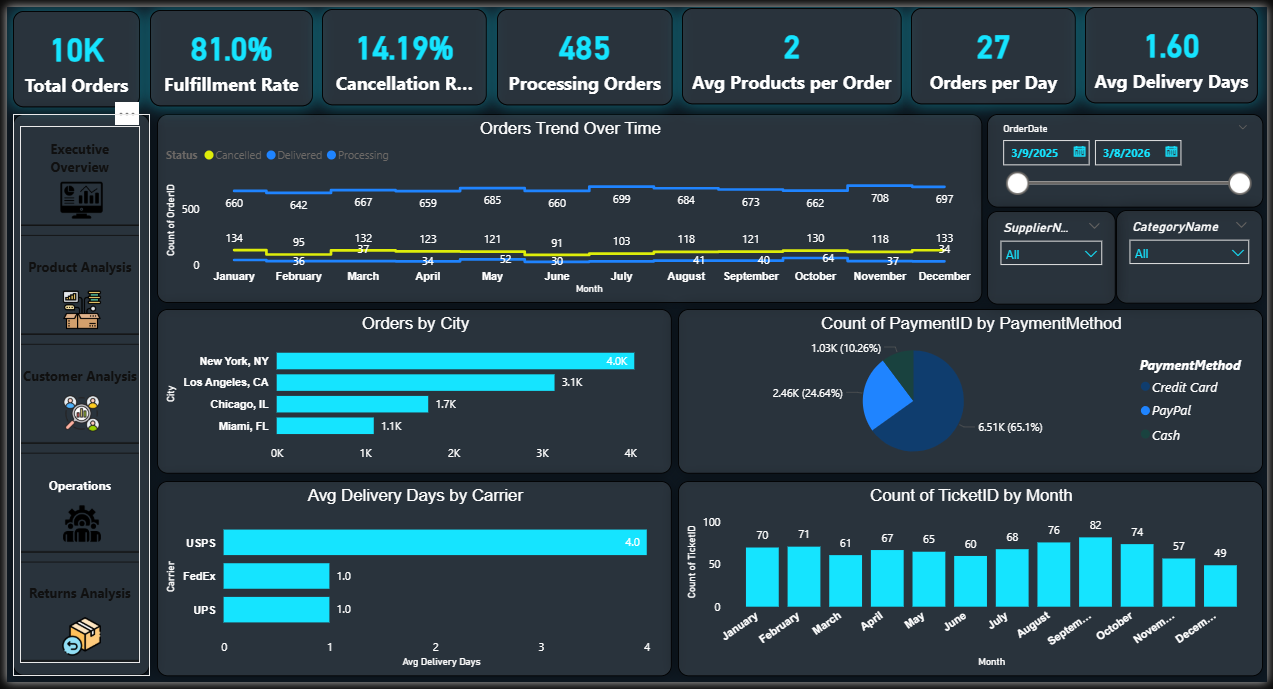

The dashboard page shown, as its layout file describes it:
{"tool":"powerbi","page":{"name":"Operations","canvas":[1400,750],"ordinal":3},"visuals":[{"type":"lineChart","title":"Orders Trend Over Time","fields":{"Category":["Orders.OrderDate.Variation.Date Hierarchy.Month"],"Series":["Orders.Status"],"Y":["CountNonNull(Orders.OrderID)"]},"box":[166.7,118.9,916.7,210],"z":0},{"type":"clusteredBarChart","title":"Orders by City","fields":{"Category":["Customers.City"],"Y":["Categories.Total Orders"]},"box":[166.7,335.6,572.2,183.3],"z":1000},{"type":"clusteredBarChart","fields":{"Category":["Shipping.Carrier"],"Y":["SupportTickets.Avg Delivery Days"]},"box":[166.7,526.7,572.2,216.7],"z":2000},{"type":"pieChart","fields":{"Category":["Payments.PaymentMethod"],"Y":["CountNonNull(Payments.PaymentID)"]},"box":[745.6,335.6,650,183.3],"z":3000},{"type":"clusteredColumnChart","fields":{"Category":["SupportTickets.CreatedAt.Variation.Date Hierarchy.Month"],"Y":["CountNonNull(SupportTickets.TicketID)"]},"box":[745.6,526.7,650,216.7],"z":4000},{"type":"card","fields":{"Values":["Categories.Total Orders"]},"box":[7,4,141,107],"z":5000},{"type":"card","fields":{"Values":["SupportTickets.Fulfillment Rate"]},"box":[158.7,3.3,181,107],"z":6000},{"type":"card","fields":{"Values":["SupportTickets.Cancellation Rate"]},"box":[350.3,2.7,183,107],"z":7000},{"type":"card","fields":{"Values":["Categories.Processing Orders"]},"box":[544,2,195,107],"z":8000},{"type":"card","fields":{"Values":["Categories.Avg Products per Order"]},"box":[749.7,1.3,244,107],"z":9000},{"type":"card","fields":{"Values":["Categories.Orders per Day"]},"box":[1004.3,0.7,183,107],"z":10000},{"type":"card","fields":{"Values":["SupportTickets.Avg Delivery Days"]},"box":[1198,0,192,107],"z":11000},{"type":"group","id":"g1","title":"Group 1","box":[7,119,152,624],"z":12000},{"type":"image","box":[23,191,119,47],"z":13000},{"type":"shape","box":[7,119,152,624],"z":14000,"group":"g1"},{"type":"image","box":[23,314,119,44],"z":14000},{"type":"image","box":[23,431,119,41],"z":15000},{"type":"image","box":[23,553,119,42],"z":16000},{"type":"image","box":[23,678,119,43],"z":17000},{"type":"slicer","fields":{"Values":["Orders.OrderDate"]},"box":[1088.9,118.9,306.7,104.4],"z":18000},{"type":"slicer","fields":{"Values":["Categories.CategoryName"]},"box":[1232.2,225.6,163.3,104.4],"z":19000},{"type":"slicer","fields":{"Values":["Suppliers.SupplierName"]},"box":[1088.9,226.7,143.3,104.4],"z":20000},{"type":"pageNavigator","box":[15,132.9,133,596.3],"z":21000,"group":"g1"}]}

Visuals, with their boxes in screenshot pixels (x1, y1, x2, y2), scaled from the page's 1400x750 canvas onto the 1273x689 screenshot:
"Orders Trend Over Time" lineChart: (left=152, top=109, right=985, bottom=302)
"Orders by City" clusteredBarChart: (left=152, top=308, right=672, bottom=477)
clusteredBarChart - Shipping.Carrier x SupportTickets.Avg Delivery Days: (left=152, top=484, right=672, bottom=683)
pieChart - Payments.PaymentMethod x CountNonNull(Payments.PaymentID): (left=678, top=308, right=1269, bottom=477)
clusteredColumnChart - SupportTickets.CreatedAt.Variation.Date Hierarchy.Month x CountNonNull(SupportTickets.TicketID): (left=678, top=484, right=1269, bottom=683)
card - Categories.Total Orders: (left=6, top=4, right=135, bottom=102)
card - SupportTickets.Fulfillment Rate: (left=144, top=3, right=309, bottom=101)
card - SupportTickets.Cancellation Rate: (left=319, top=2, right=485, bottom=101)
card - Categories.Processing Orders: (left=495, top=2, right=672, bottom=100)
card - Categories.Avg Products per Order: (left=682, top=1, right=904, bottom=99)
card - Categories.Orders per Day: (left=913, top=1, right=1080, bottom=99)
card - SupportTickets.Avg Delivery Days: (left=1089, top=0, right=1264, bottom=98)
"Group 1" group: (left=6, top=109, right=145, bottom=683)
image: (left=21, top=175, right=129, bottom=219)
shape: (left=6, top=109, right=145, bottom=683)
image: (left=21, top=288, right=129, bottom=329)
image: (left=21, top=396, right=129, bottom=434)
image: (left=21, top=508, right=129, bottom=547)
image: (left=21, top=623, right=129, bottom=662)
slicer - Orders.OrderDate: (left=990, top=109, right=1269, bottom=205)
slicer - Categories.CategoryName: (left=1120, top=207, right=1269, bottom=303)
slicer - Suppliers.SupplierName: (left=990, top=208, right=1120, bottom=304)
pageNavigator: (left=14, top=122, right=135, bottom=670)
